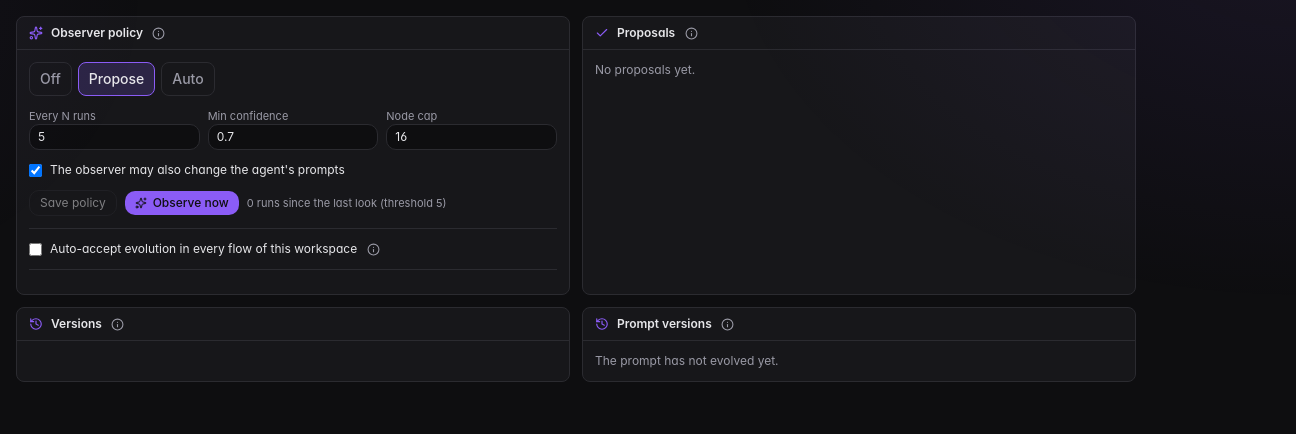
Test case: saves the workspace auto-accept switch at once and refreshes the flow
Click the checkbox with test id "flow-ws-auto-accept": coordinates (36, 249) left=29, top=242, right=42, bottom=256
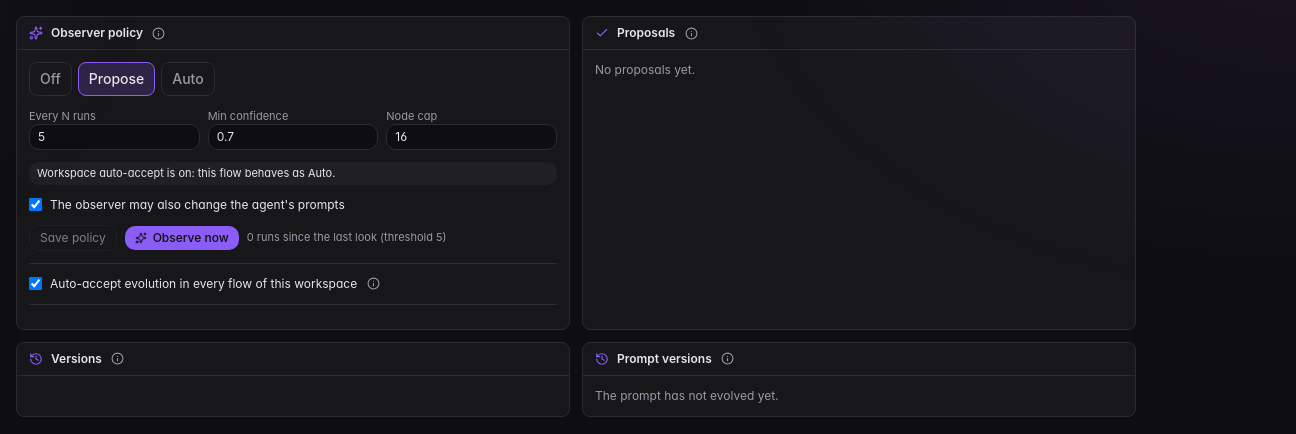
Expected: the checkbox with test id "flow-ws-auto-accept" is checked, left=29, top=277, right=42, bottom=290
Expected: the text with test id "flow-ws-auto-accept-active" shows "behaves as Auto", left=37, top=166, right=335, bottom=180
